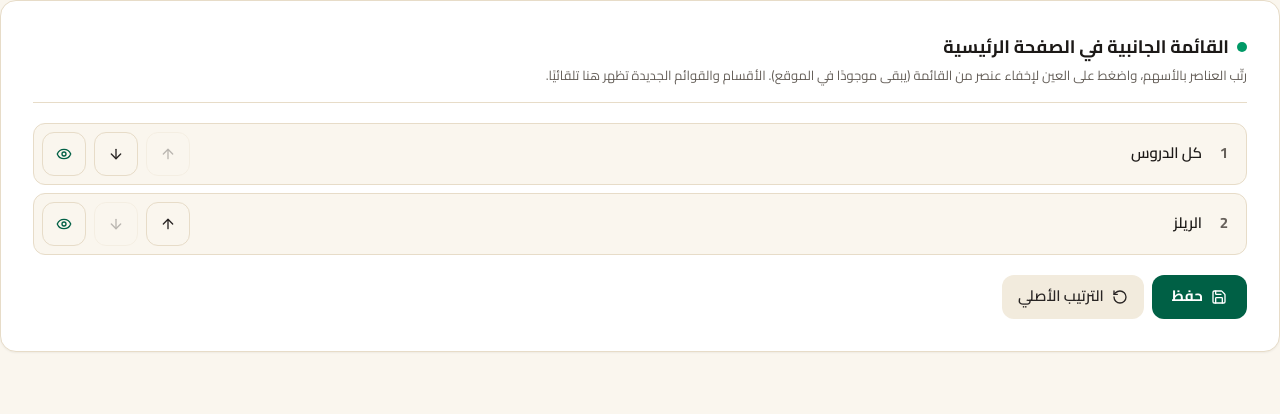
Test: SideMenuSettings › saves once and confirms
The image size is (1280, 414).
Click the button "حفظ": {"x": 1199, "y": 297} [1152,275,1247,319]
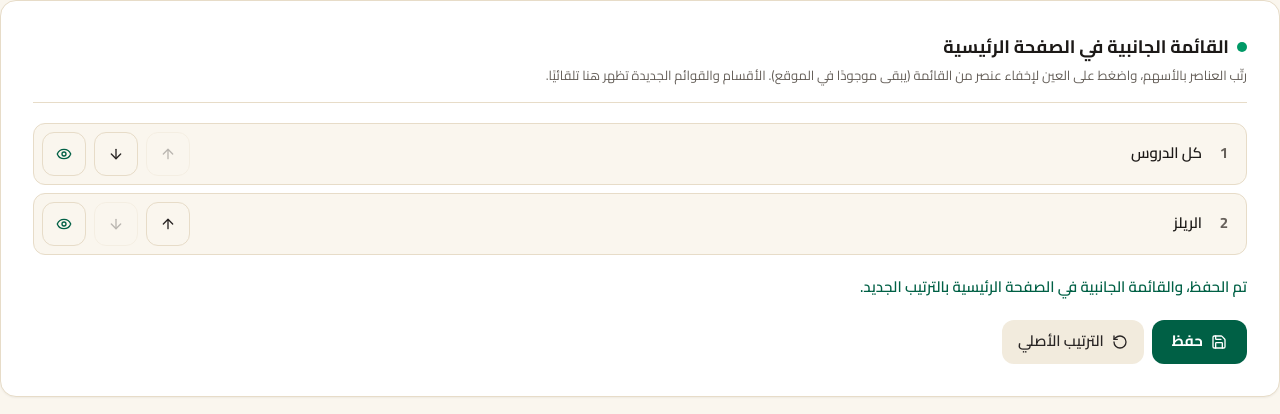
Expected: the message shows "تم الحفظ", [860,272,1247,301]
